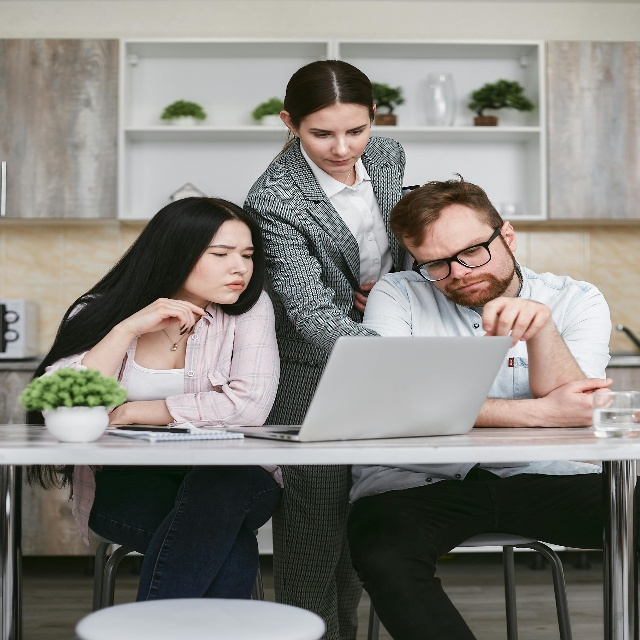Gafas: (411, 223, 504, 282)
Sin_guantes: (481, 296, 552, 349), (544, 376, 615, 428), (125, 297, 213, 336), (353, 281, 376, 313), (108, 401, 131, 425)
